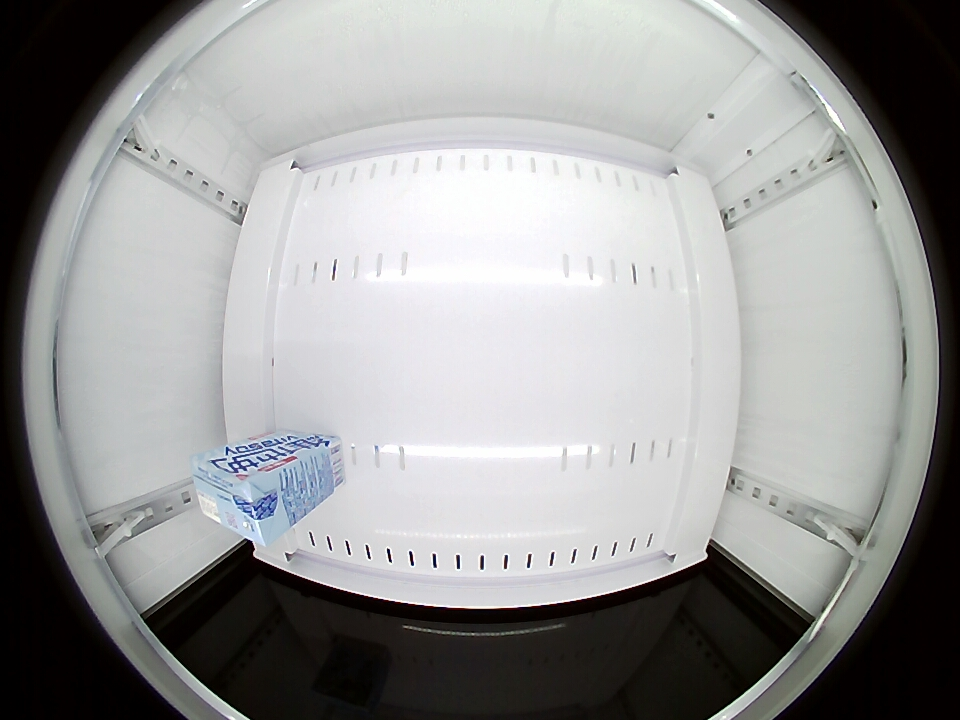weitanaiditang: (190, 449, 291, 545)
